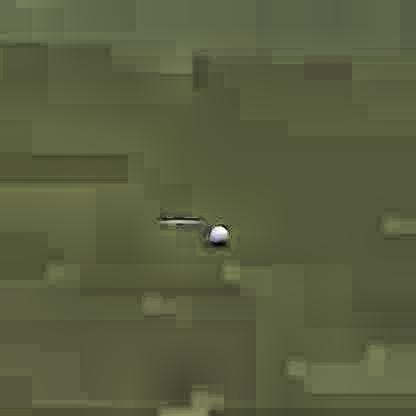golfball: (205, 221, 227, 244)
